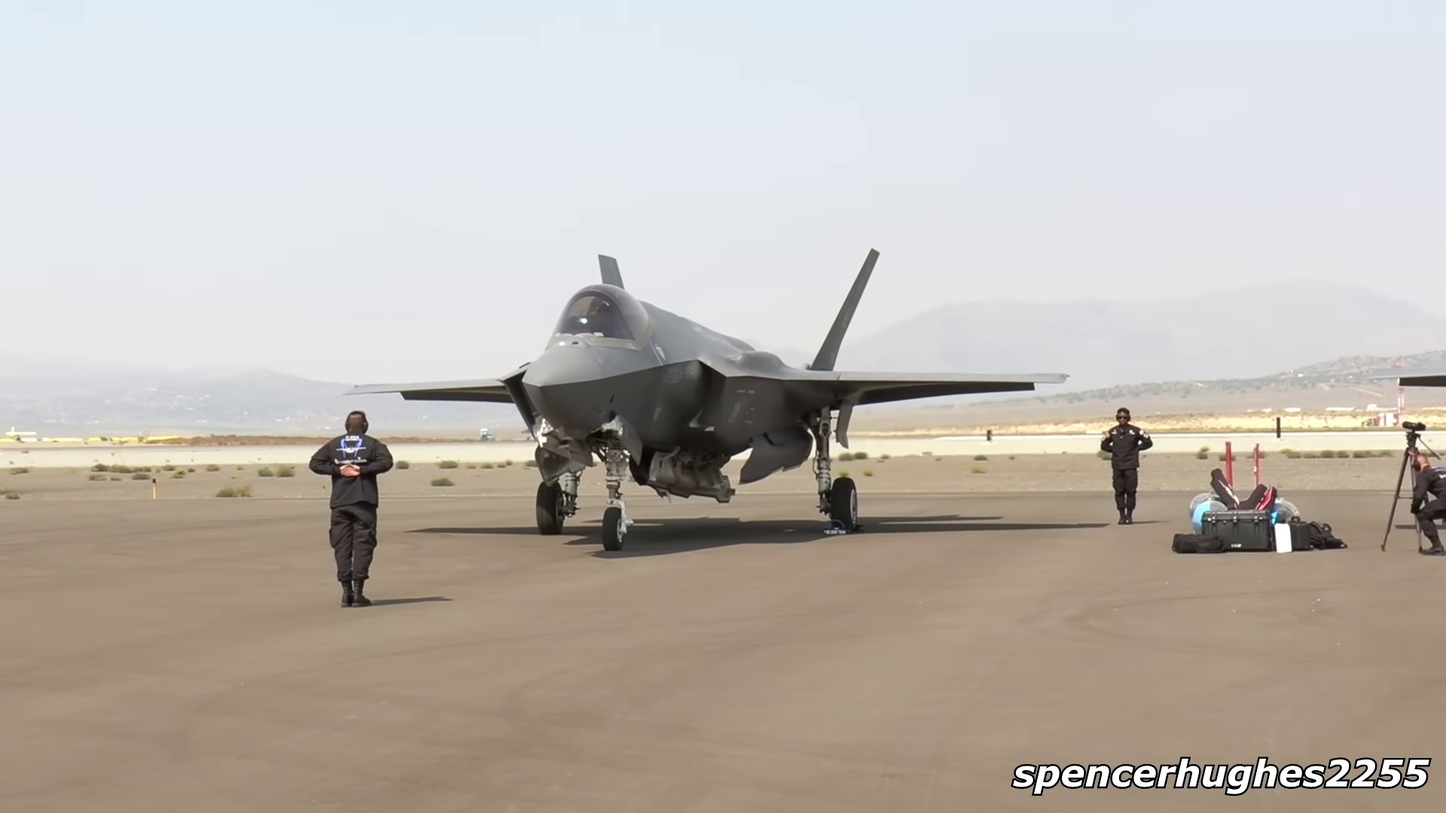F35: (339, 240, 1069, 557)
